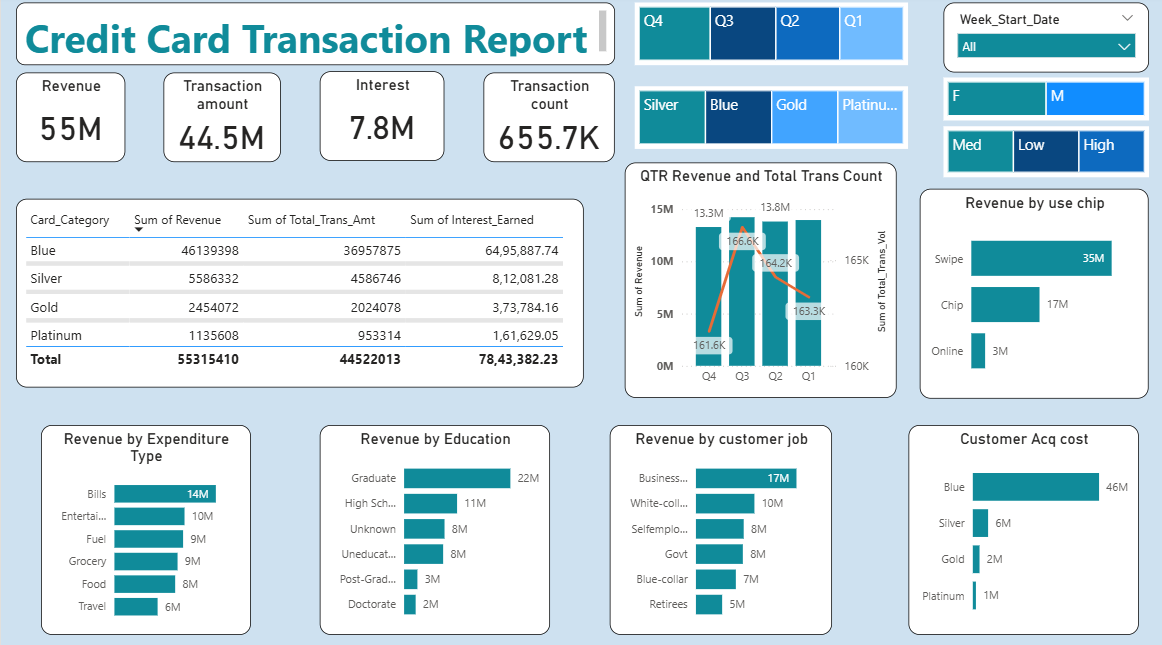

The dashboard page shown, as its layout file describes it:
{"tool":"powerbi","page":{"name":"Credit Card Transaction Report","canvas":[1280,720],"ordinal":1},"visuals":[{"type":"textbox","box":[16.5,8.2,657.3,68.6],"z":0},{"type":"lineStackedColumnComboChart","title":"QTR  Revenue and Total Trans Count","fields":{"Category":["credit_card.Qtr"],"Y":["Sum(credit_card.Revenue)"],"Y2":["Sum(credit_card.Total_Trans_Vol)"]},"box":[684.3,184.3,298.6,258.6],"z":1000},{"type":"barChart","title":" Revenue by Expenditure Type","fields":{"Y":["Sum(credit_card.Revenue)"],"Category":["credit_card.Exp Type"]},"box":[44.3,471.4,230,230],"z":2000},{"type":"barChart","title":" Revenue by Education","fields":{"Y":["Sum(credit_card.Revenue)"],"Category":["customer data.Education_Level"]},"box":[350,471.4,252.9,230],"z":3000},{"type":"barChart","title":" Revenue by  customer job","fields":{"Y":["Sum(credit_card.Revenue)"],"Category":["customer data.Customer_Job"]},"box":[668.6,471.4,244.3,230],"z":4000},{"type":"barChart","title":" Customer Acq cost","fields":{"Y":["Sum(credit_card.Revenue)"],"Category":["credit_card.Card_Category"]},"box":[995.7,471.4,252.9,230],"z":5000},{"type":"barChart","title":" Revenue by use chip","fields":{"Y":["Sum(credit_card.Revenue)"],"Category":["credit_card.Use Chip","credit_card.Card_Category"]},"box":[1008.6,212.9,251.4,230],"z":6000},{"type":"tableEx","fields":{"Values":["credit_card.Card_Category","Sum(credit_card.Revenue)","Sum(credit_card.Total_Trans_Amt)","Sum(credit_card.Interest_Earned)"]},"box":[17.1,224.3,622.9,207.1],"z":7000},{"type":"card","title":"Revenue","fields":{"Values":["Sum(credit_card.Revenue)"]},"box":[17.1,85.7,120,98],"z":8000},{"type":"card","title":" Transaction amount","fields":{"Values":["Sum(credit_card.Total_Trans_Amt)"]},"box":[178.6,85.7,128.6,98.6],"z":9000},{"type":"card","title":"Interest","fields":{"Values":["Sum(credit_card.Interest_Earned)"]},"box":[350,84.3,137.1,98.6],"z":10000},{"type":"card","title":"Transaction count","fields":{"Values":["Sum(credit_card.Total_Trans_Vol)"]},"box":[530,85.7,144.3,98.6],"z":11000},{"type":"slicer","fields":{"Values":["credit_card.Week_Start_Date"]},"box":[1034.3,8.6,225.7,77.1],"z":12000},{"type":"treemap","fields":{"Group":["credit_card.Qtr"],"Values":["Avg(credit_card.Client_Num)"]},"box":[695.7,8.6,300,68.6],"z":13000},{"type":"treemap","fields":{"Group":["customer data.Gender","credit_card.Qtr"],"Values":["Avg(credit_card.Client_Num)"]},"box":[1034.3,90,225.7,47.1],"z":14000},{"type":"treemap","fields":{"Group":["credit_card.Card_Category"],"Values":["Avg(credit_card.Client_Num)"]},"box":[695.7,100,300,68.6],"z":15000},{"type":"treemap","fields":{"Group":["customer data.IncomeGroup"],"Values":["Avg(credit_card.Client_Num)"]},"box":[1034.3,144.3,225.7,55.7],"z":16000}]}

Visuals, with their boxes in screenshot pixels (x1, y1, x2, y2), scaled from the page's 1280x720 canvas onto the 1162x645 screenshot:
textbox: box=[15, 7, 612, 69]
"QTR  Revenue and Total Trans Count" lineStackedColumnComboChart: box=[621, 165, 892, 397]
" Revenue by Expenditure Type" barChart: box=[40, 422, 249, 628]
" Revenue by Education" barChart: box=[318, 422, 547, 628]
" Revenue by  customer job" barChart: box=[607, 422, 829, 628]
" Customer Acq cost" barChart: box=[904, 422, 1133, 628]
" Revenue by use chip" barChart: box=[916, 191, 1144, 397]
tableEx - credit_card.Card_Category x Sum(credit_card.Revenue): box=[16, 201, 581, 386]
"Revenue" card: box=[16, 77, 124, 165]
" Transaction amount" card: box=[162, 77, 279, 165]
"Interest" card: box=[318, 76, 442, 164]
"Transaction count" card: box=[481, 77, 612, 165]
slicer - credit_card.Week_Start_Date: box=[939, 8, 1144, 77]
treemap - credit_card.Qtr x Avg(credit_card.Client_Num): box=[632, 8, 904, 69]
treemap - customer data.Gender x credit_card.Qtr: box=[939, 81, 1144, 123]
treemap - credit_card.Card_Category x Avg(credit_card.Client_Num): box=[632, 90, 904, 151]
treemap - customer data.IncomeGroup x Avg(credit_card.Client_Num): box=[939, 129, 1144, 179]
